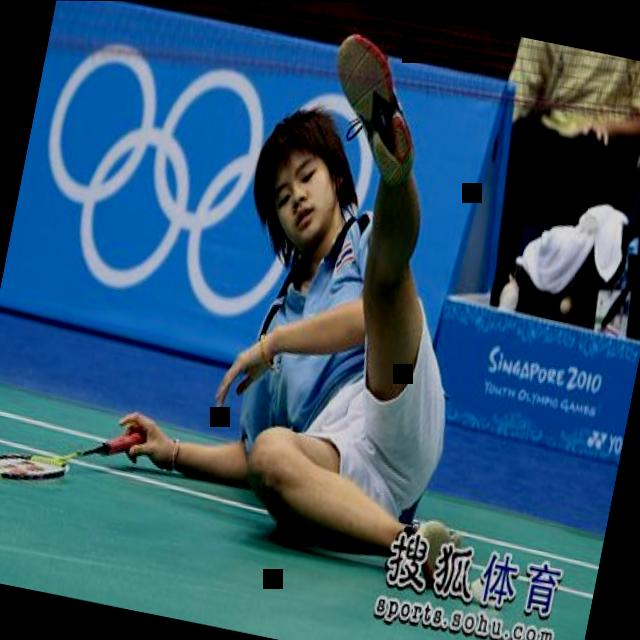Fall-Detected: (85, 0, 550, 611)
